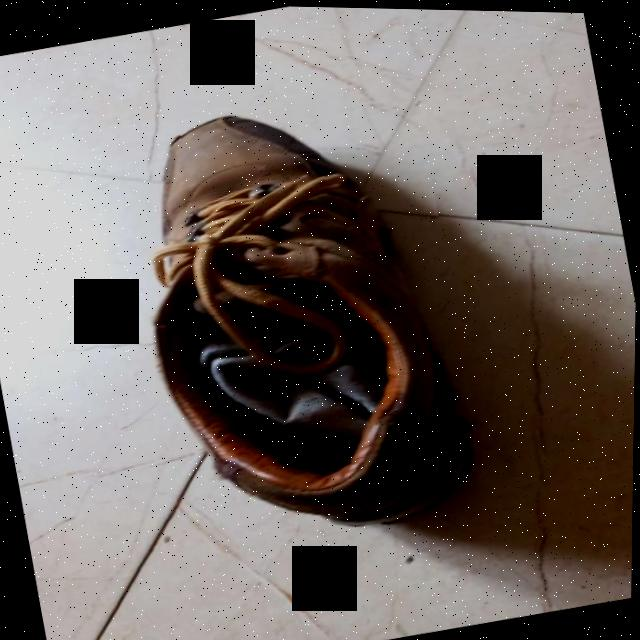shoe: (107, 73, 498, 565)
